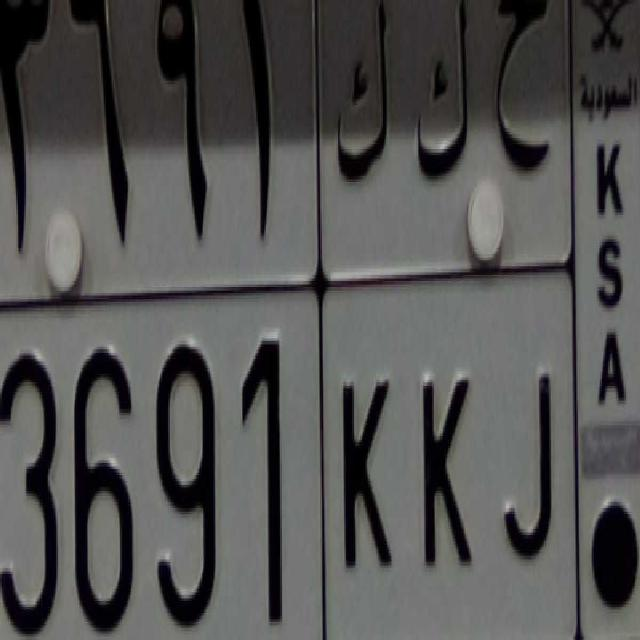license_plate: (0, 287, 568, 640)
